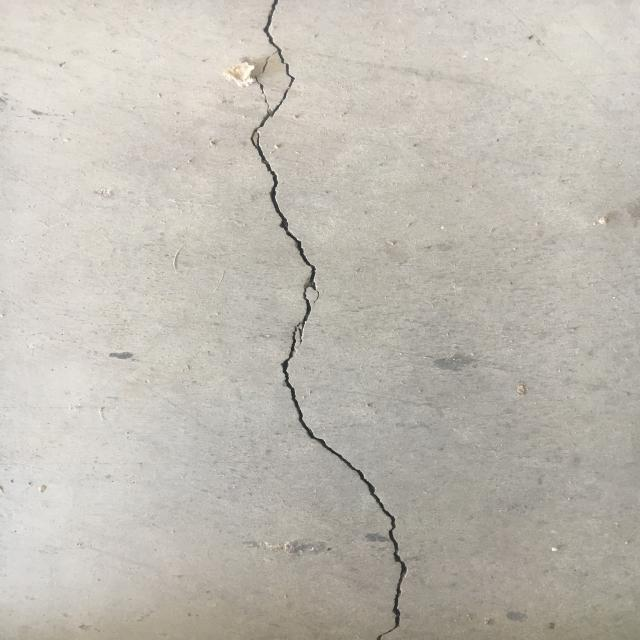Rachadura: (241, 0, 411, 640)
